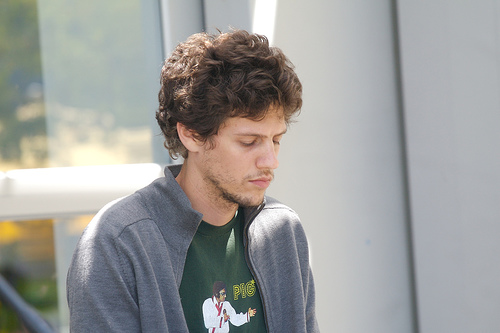without_mask: (174, 82, 289, 216)
